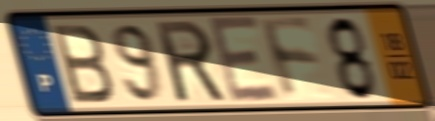8: (323, 11, 378, 105)
9: (111, 21, 167, 104)
B: (47, 22, 118, 106)
E: (204, 14, 283, 108)
F: (256, 15, 324, 104)
R: (151, 17, 230, 106)
